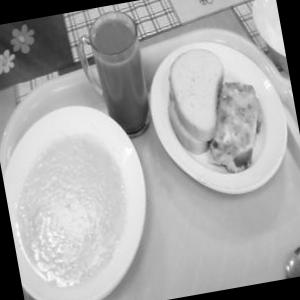bread: (154, 37, 234, 155)
cheese_sandwich: (186, 72, 275, 180)
coffee: (72, 4, 166, 142)
porridge: (0, 101, 163, 298)
